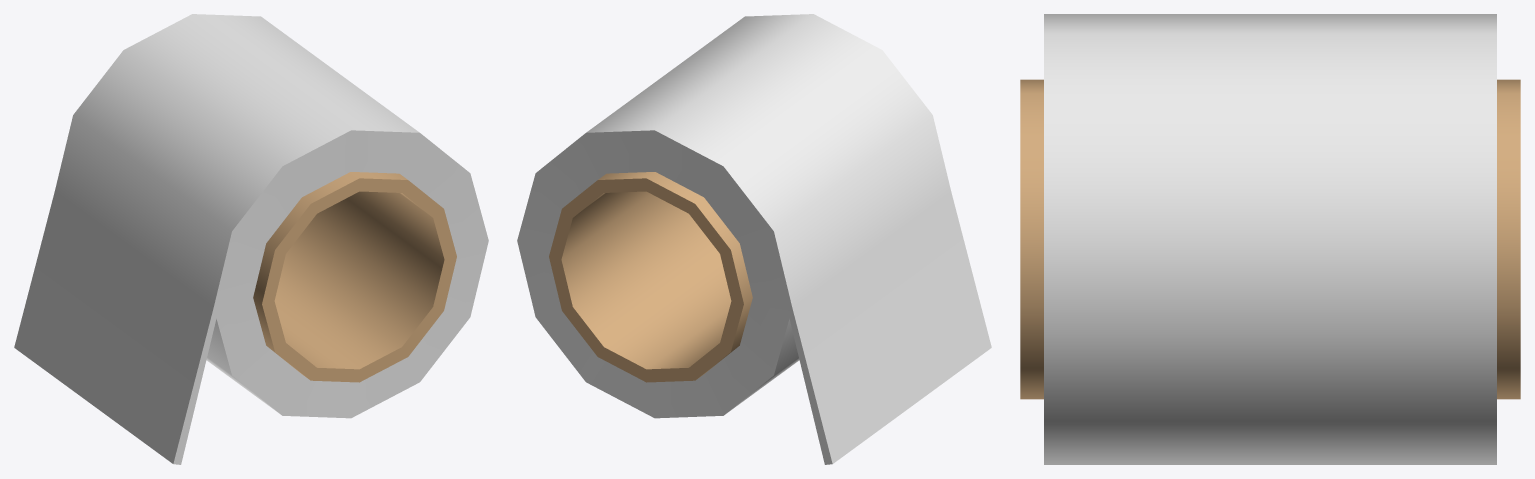
File: Toilet Napkin02.fbx
3 renders of one model, left to right at view 1: azimuth 30°, elevation 25°; view 2: azimuth 150°, elevation 25°; view 3: azimuth 270°, elevation 25°, orthographic. The views are drawn at different scales.
Parts seen in each view (by area): view 1: Toilet Napkin02; view 2: Toilet Napkin02; view 3: Toilet Napkin02.
Boxes of the visible parts, x1,y1,x2,y2 form: Toilet Napkin02: (14, 14, 488, 464); Toilet Napkin02: (517, 14, 991, 464); Toilet Napkin02: (1020, 14, 1520, 464).
Bounding box in the file's own units: 0.1216 × 0.1171 × 0.1079.
